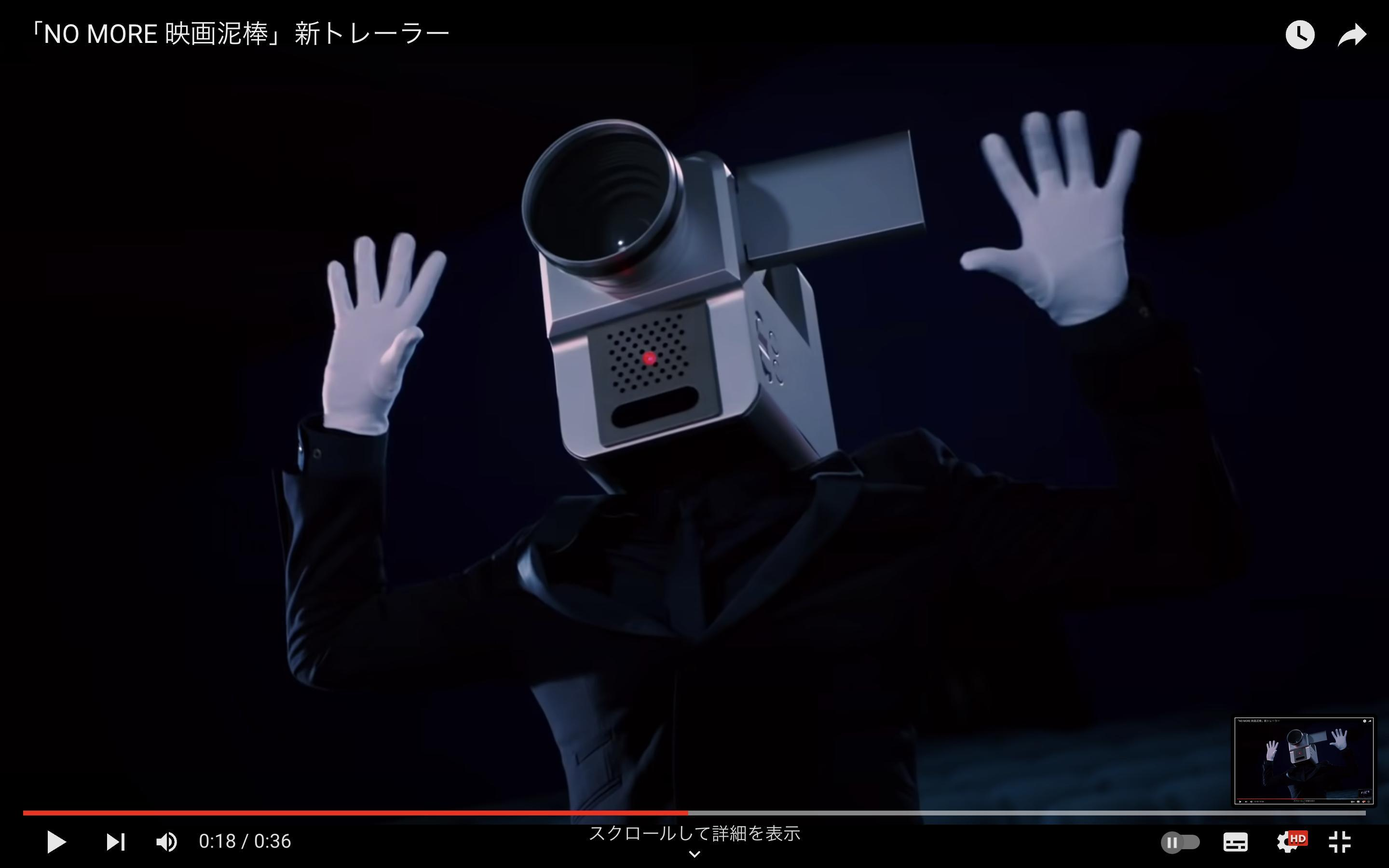no more kid: (487, 90, 950, 500)
